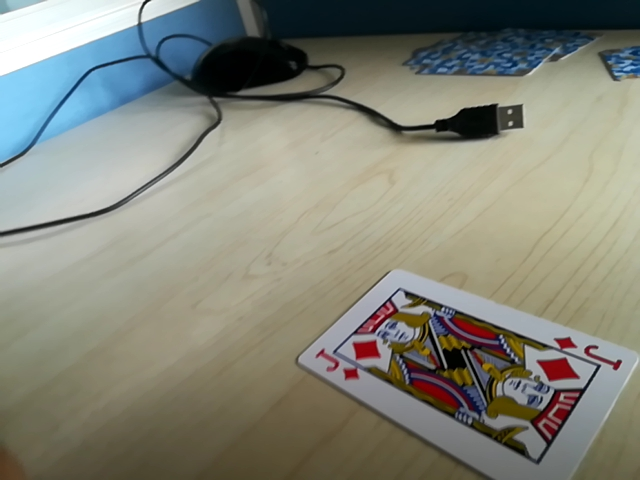fk j: (308, 344, 367, 386), (554, 335, 617, 361)
